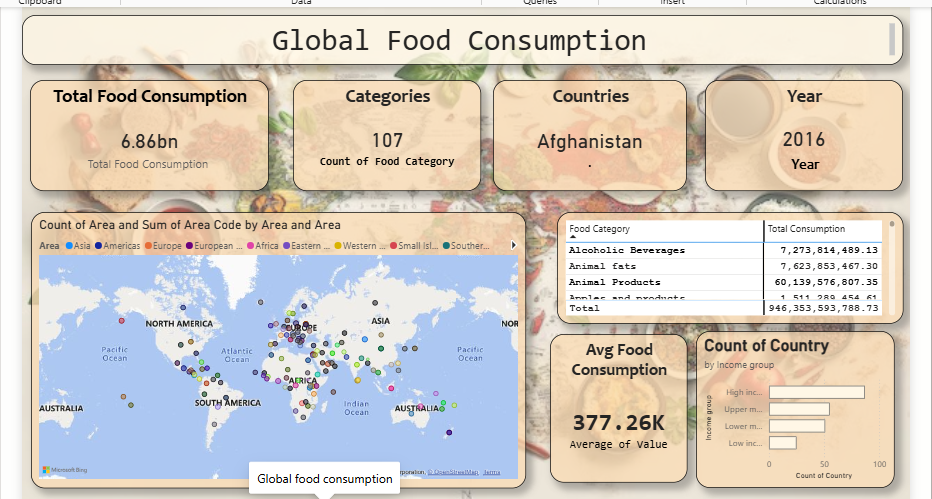

The page's visual inventory and layout, read from the dashboard file:
{"tool":"powerbi","page":{"name":"Global food consumption ","canvas":[1280,720],"ordinal":1},"visuals":[{"type":"card","title":"Avg Food Consumption","fields":{"Values":["Avg(FoodBalanceSheets_E_All_Data_(Normalized) (2).Value)"]},"box":[759.7,470.4,197.8,214.4],"z":0},{"type":"textbox","box":[0,11.8,1269.2,72.3],"z":1000},{"type":"card","title":"Categories","fields":{"Values":["Count(FoodBalanceSheets_E_All_Data_(Normalized) (2).Food Category)"]},"box":[390.9,104.6,271.1,159.7],"z":2000},{"type":"card","title":"Year","fields":{"Values":["Median(FoodBalanceSheets_E_All_Data_(Normalized) (2).Year)"]},"box":[984.1,104.6,284.9,159.7],"z":3000},{"type":"card","title":"Countries","fields":{"Values":["Min(FoodBalanceSheets_E_All_Data_(Normalized) (2).Area)"]},"box":[678.5,104.6,279.4,159.7],"z":4000},{"type":"map","fields":{"Series":["FoodBalanceSheets_E_All_Data_(Normalized) (2).Area"],"Size":["CountNonNull(FoodBalanceSheets_E_All_Data_(Normalized) (2).Area)"],"Category":["FoodBalanceSheets_E_All_Data_(Normalized) (2).Area"]},"box":[12.4,294.5,712.9,397.8],"z":5000},{"type":"barChart","fields":{"Category":["Dim_Income.Income group"],"Y":["Count(Dim_Income.Country)"]},"box":[971.1,466.2,286,226],"z":6000},{"type":"tableEx","fields":{"Values":["FoodBalanceSheets_E_All_Data_(Normalized) (2).Food Category","FoodBalanceSheets_E_All_Data_(Normalized) (2).Total Consumption"]},"box":[770,294.8,498.9,160.7],"z":7000},{"type":"card","title":"Total Food Consumption ","fields":{"Values":["FoodBalanceSheets_E_All_Data_(Normalized) (2).Avg Consumption per Country"]},"box":[11.6,104.7,344.1,159.6],"z":9000}]}

Visuals, with their boxes in screenshot pixels (x1, y1, x2, y2):
"Avg Food Consumption" card: {"x1": 547, "y1": 329, "x2": 682, "y2": 476}
textbox: {"x1": 27, "y1": 15, "x2": 896, "y2": 65}
"Categories" card: {"x1": 294, "y1": 79, "x2": 480, "y2": 188}
"Year" card: {"x1": 701, "y1": 79, "x2": 896, "y2": 188}
"Countries" card: {"x1": 491, "y1": 79, "x2": 683, "y2": 188}
map - FoodBalanceSheets_E_All_Data_(Normalized) (2).Area x CountNonNull(FoodBalanceSheets_E_All_Data_(Normalized) (2).Area): {"x1": 35, "y1": 209, "x2": 523, "y2": 481}
barChart - Dim_Income.Income group x Count(Dim_Income.Country): {"x1": 692, "y1": 327, "x2": 888, "y2": 481}
tableEx - FoodBalanceSheets_E_All_Data_(Normalized) (2).Food Category x FoodBalanceSheets_E_All_Data_(Normalized) (2).Total Consumption: {"x1": 554, "y1": 209, "x2": 896, "y2": 319}
"Total Food Consumption " card: {"x1": 35, "y1": 79, "x2": 270, "y2": 188}
